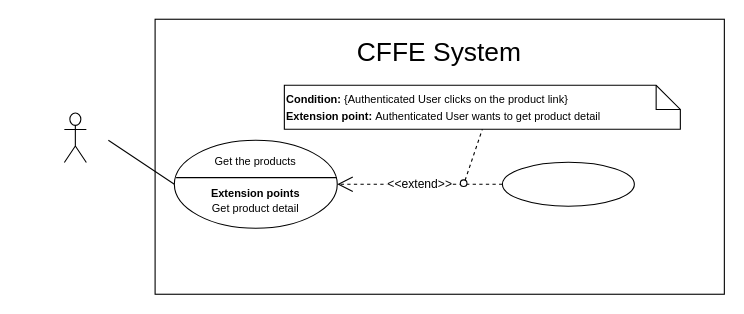
This 744x314 diagram has some shape labels left out. Each missing label, with the centre of its shape:
Authenticated User: [74,137]
Get product detail: [567,183]
